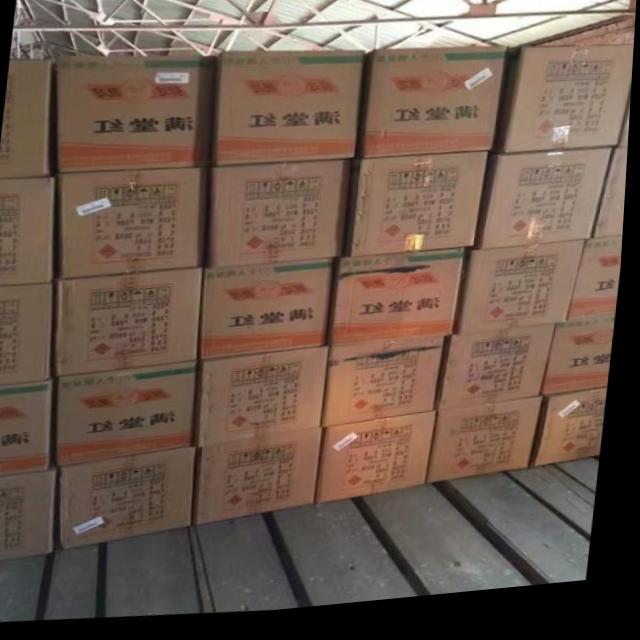box: (58, 59, 214, 172), (214, 54, 364, 170), (356, 57, 511, 167), (58, 272, 208, 380), (60, 170, 206, 280), (207, 167, 355, 273), (494, 55, 635, 166), (61, 365, 205, 469), (348, 161, 491, 263), (66, 451, 204, 553), (478, 160, 617, 261), (205, 265, 340, 367), (338, 258, 471, 353), (203, 355, 333, 452), (202, 436, 326, 530), (461, 253, 586, 345), (329, 342, 452, 434), (324, 420, 442, 511), (442, 335, 560, 419), (433, 407, 547, 493), (0, 173, 61, 285), (0, 59, 54, 181), (0, 283, 60, 385), (536, 400, 613, 479), (0, 379, 62, 477), (0, 469, 65, 562), (549, 331, 620, 409), (569, 249, 626, 333), (590, 159, 630, 254), (620, 112, 633, 160)
